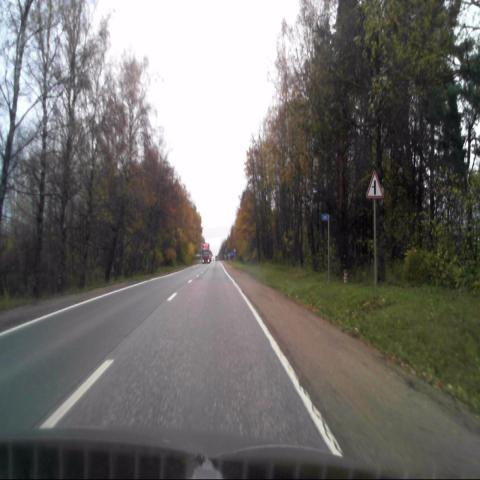2_3_3: (366, 170, 384, 199)
